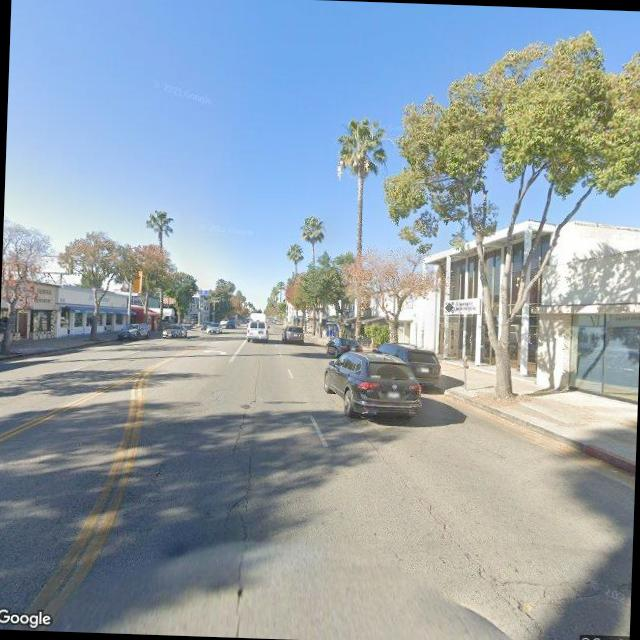pothole: (390, 484, 552, 625), (226, 400, 253, 468)
